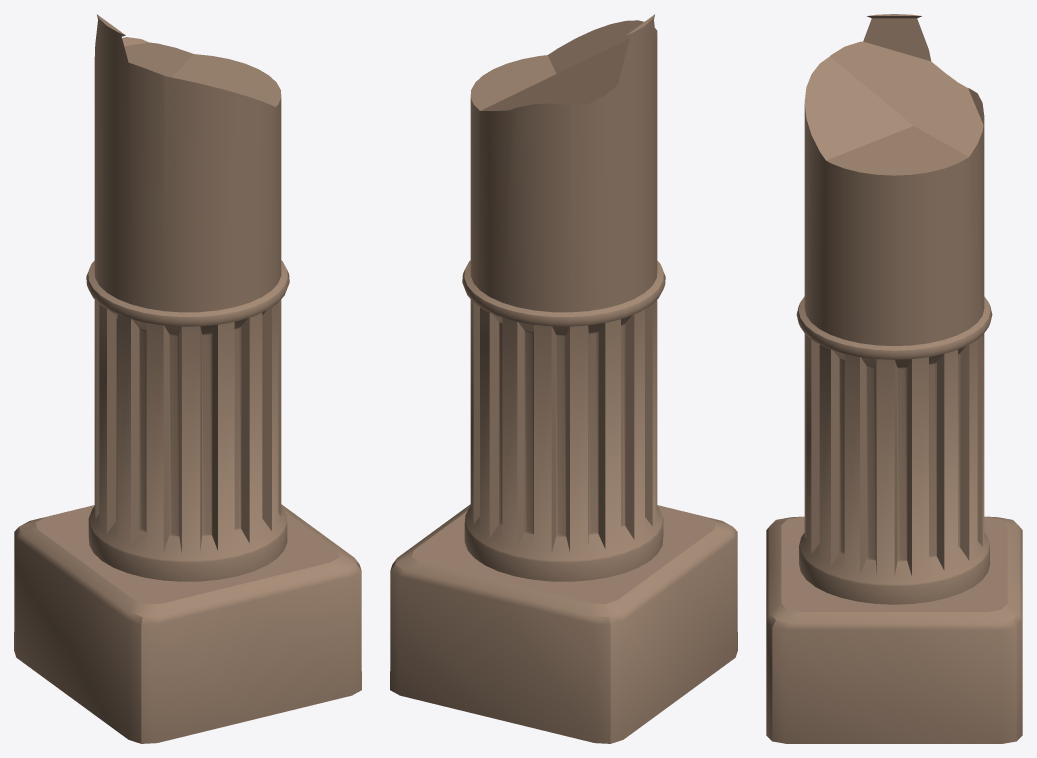
File: Pillar.fbx
3 views of the same model, side by side, from view 1: azimuth 30°, elevation 25°; view 2: azimuth 150°, elevation 25°; view 3: azimuth 270°, elevation 25° (orthographic). The views are drawn at different scales.
Parts seen in each view (by area): view 1: Pillar; view 2: Pillar; view 3: Pillar.
Part boxes in pixels (bbox=[...]): Pillar: bbox=[14, 14, 361, 743]; Pillar: bbox=[390, 14, 737, 743]; Pillar: bbox=[766, 14, 1022, 743].
Size of the model in its own units: 310 by 852 by 310.
